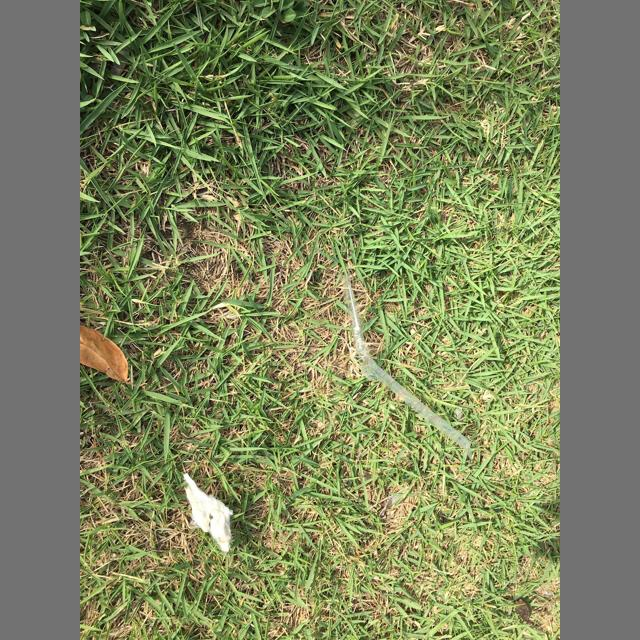litter: (340, 273, 472, 461), (183, 472, 233, 553)
